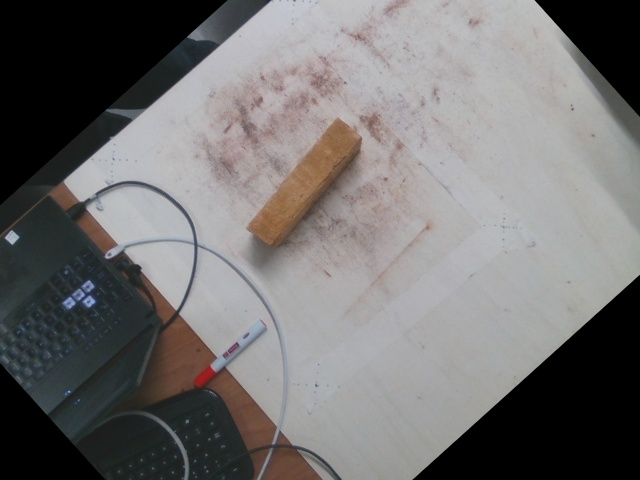brick-side: (250, 118, 358, 243)
